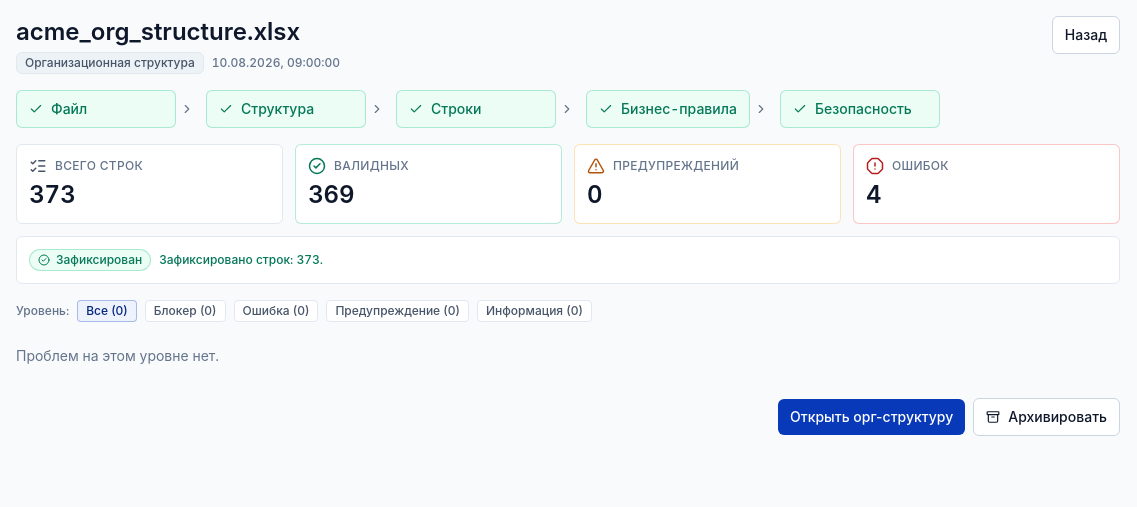
Test: ImportDetailsPage › surfaces an archive failure inline with the backend error code + reference
The image size is (1137, 507).
Click the button with test id "import-details-archive": {"x": 1047, "y": 417} top-left (973, 398), bottom-right (1120, 436)
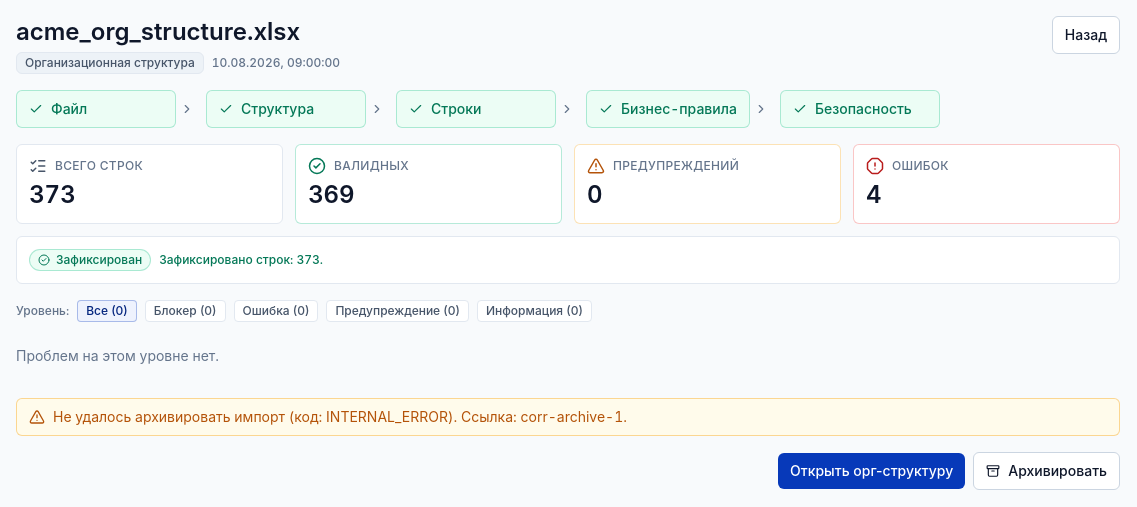
Result: the message with test id "import-details-error" shows "INTERNAL_ERROR" at top-left (53, 408), bottom-right (627, 425)
Result: the message with test id "import-details-error" shows "corr-archive-1" at top-left (53, 408), bottom-right (627, 425)
